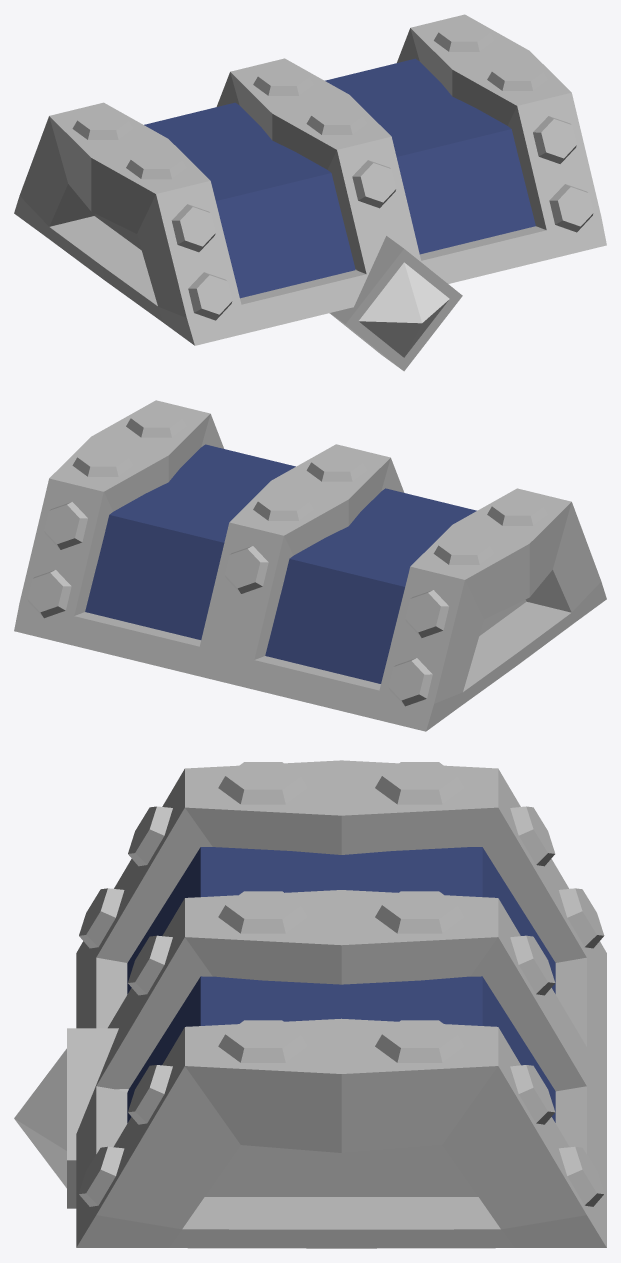
Rendered from chest_silver_top.fbx.
3 views of the same model, one above another, from view 1: azimuth 30°, elevation 25°; view 2: azimuth 150°, elevation 25°; view 3: azimuth 270°, elevation 25° (orthographic). The views are drawn at different scales.
Visible parts, largest first — view 1: chest_silver_top; view 2: chest_silver_top; view 3: chest_silver_top.
Boxes of the visible parts, x1,y1,x2,y2 form: chest_silver_top: (14, 14, 606, 371); chest_silver_top: (14, 400, 606, 731); chest_silver_top: (14, 760, 606, 1248).
Bounding box in the file's own units: 106 × 47.89 × 84.8.
